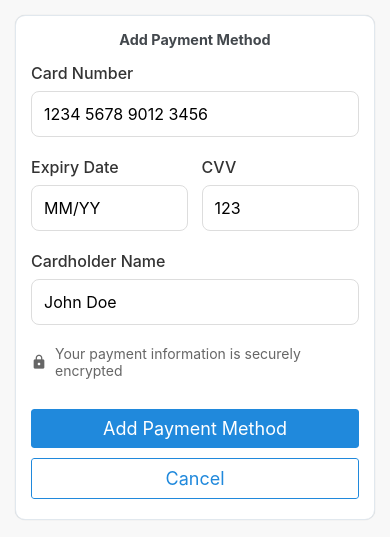
Test: AddPaymentMethodScreen › formats expiry date with slash
Type "1225" into the field with placeholder "MM/YY" at (110, 208), box [31,185,188,231]
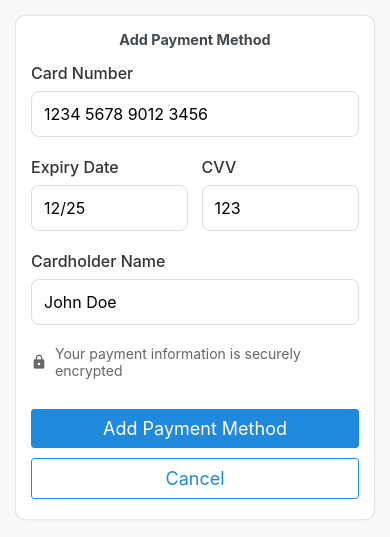
Check: the field with placeholder "MM/YY" holds "12/25", box [31,185,188,231]
